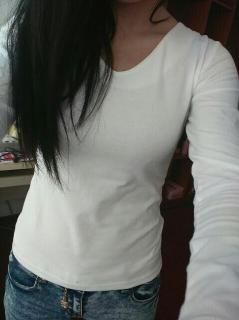long sleeve top: (0, 1, 239, 319)
trousers: (4, 239, 161, 319)
